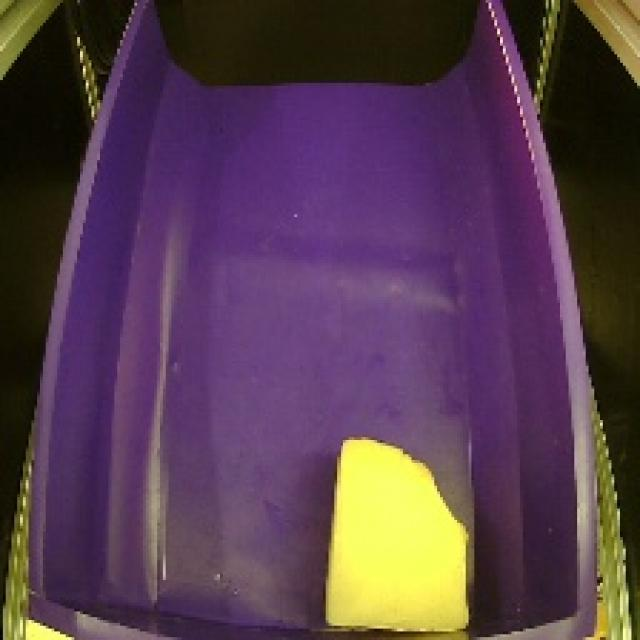potato: (314, 427, 478, 640)
